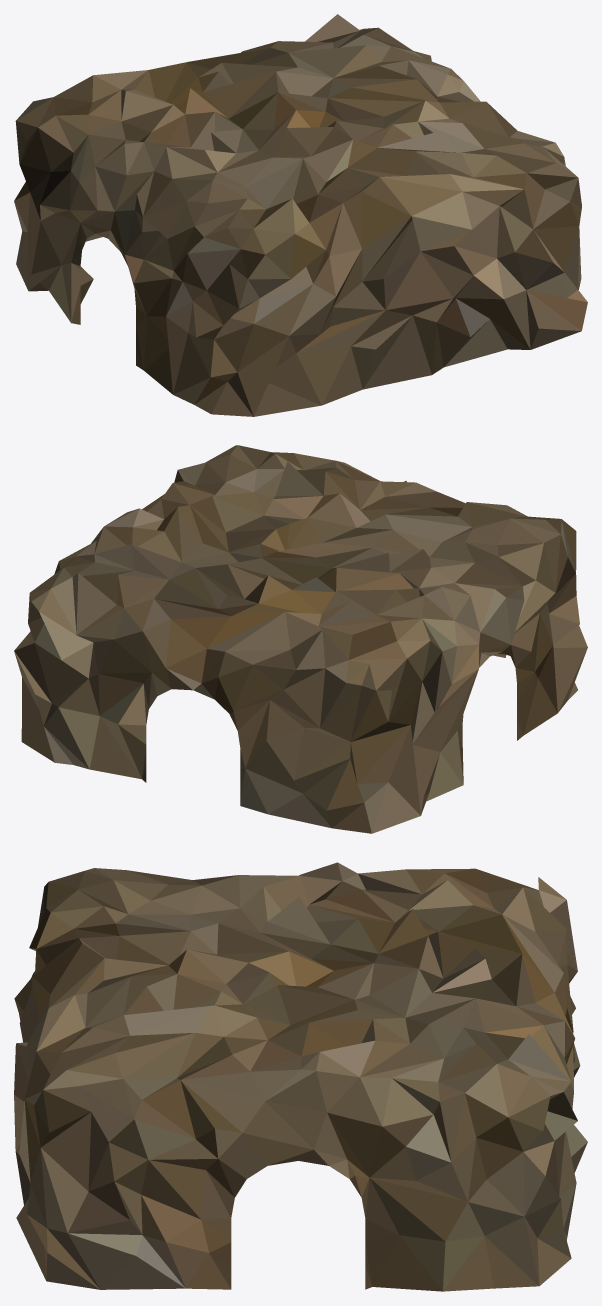
Rendered from Cave-Room3Exit.fbx.
3 views of the same model, one above another, from view 1: azimuth 30°, elevation 25°; view 2: azimuth 150°, elevation 25°; view 3: azimuth 270°, elevation 25° (orthographic). The views are drawn at different scales.
Parts seen in each view (by area): view 1: Cave-Room3Exit; view 2: Cave-Room3Exit; view 3: Cave-Room3Exit.
Part boxes in pixels (x1,y1,x2,y2): Cave-Room3Exit: (14,14,587,416); Cave-Room3Exit: (14,445,587,833); Cave-Room3Exit: (14,862,587,1291).
Bounding box in the file's own units: 2101 × 967 × 2139.
